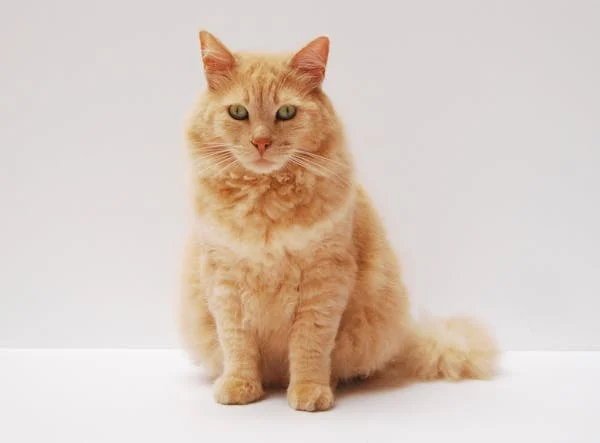Cat: (174, 29, 478, 411)
